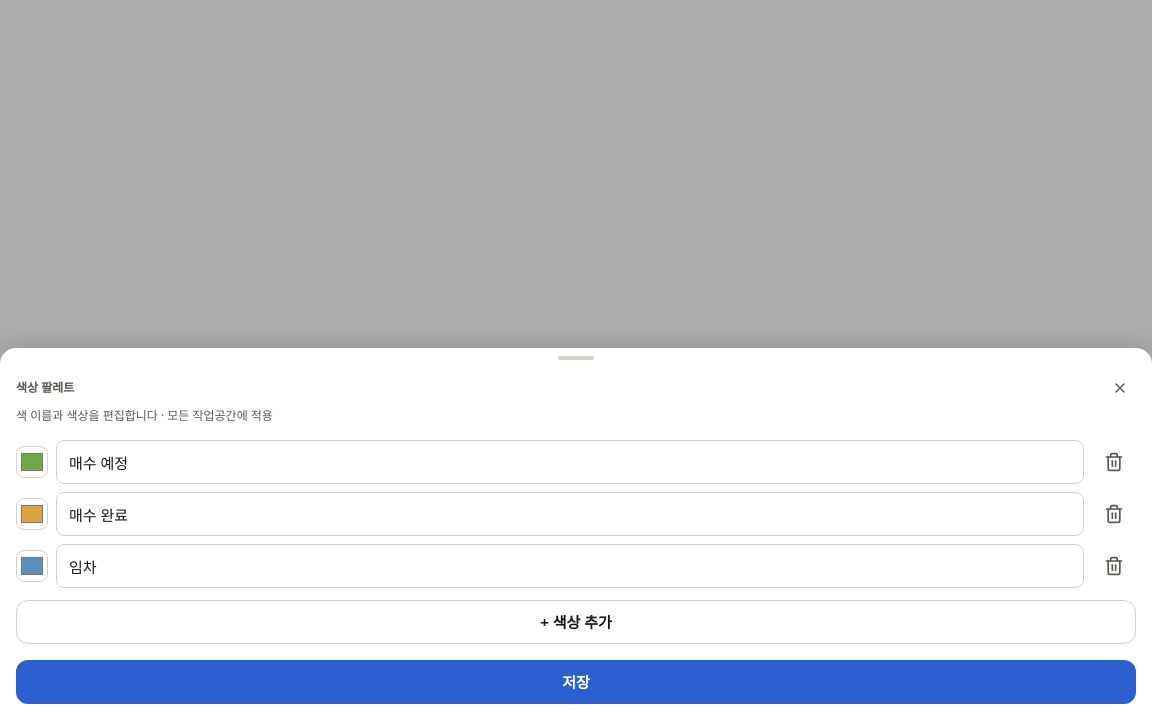
Test: AC-4: 2단계 삭제 확인 + 저장 시 DELETE→PUT 순서 › 삭제 버튼 1탭은 행을 지우지 않고 참조 수 문구를 표시한다
Click the 1st button named "색상 삭제" at (1114, 462), box [1092,440,1136,484]
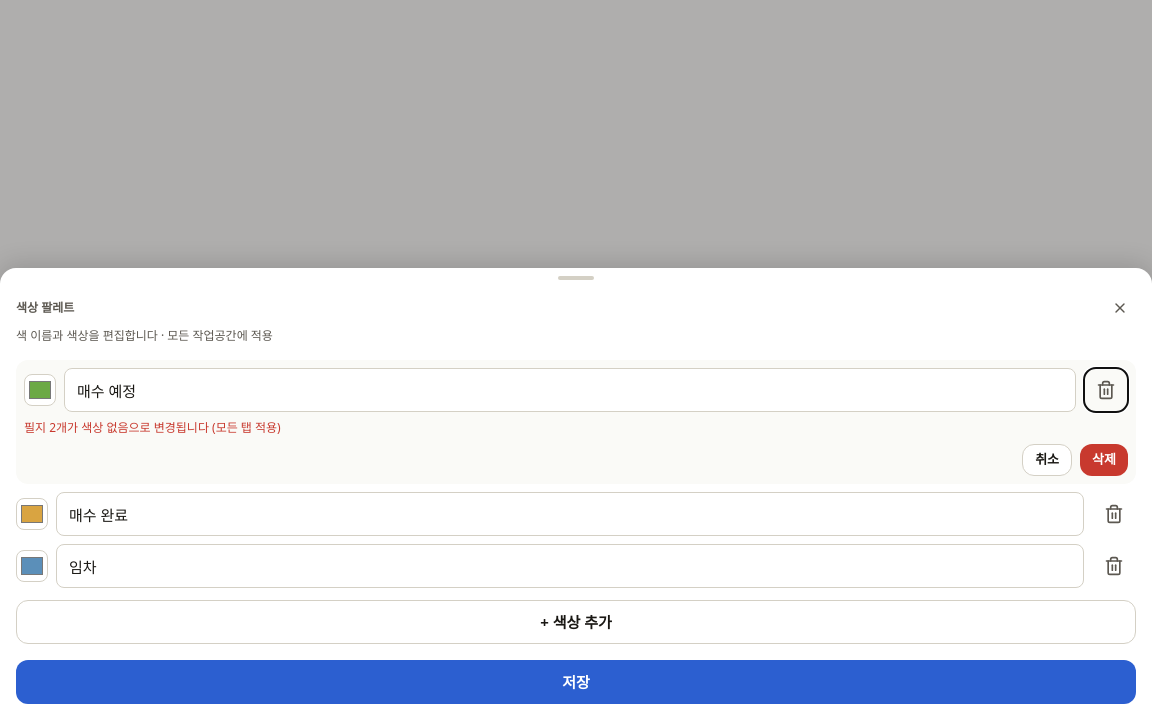
Expected: the text "필지 2개" is shown, [24,419,281,436]
